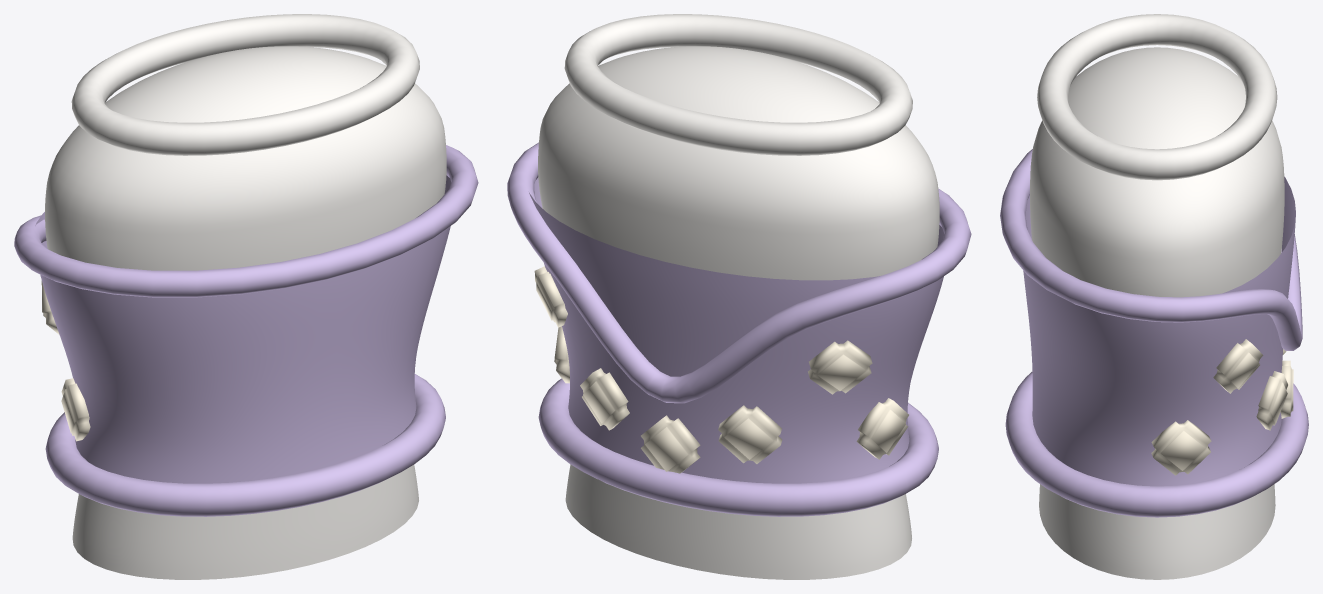
Rendered from sweater_vest.glb.
3 renders of one model, left to right at view 1: azimuth 30°, elevation 25°; view 2: azimuth 150°, elevation 25°; view 3: azimuth 270°, elevation 25°, orthographic. The views are drawn at different scales.
Visible parts, largest first — view 1: Body; view 2: Body; view 3: Body.
Part boxes in pixels (<box>): Body: <box>14,14,478,579</box>; Body: <box>507,14,971,579</box>; Body: <box>1000,14,1308,579</box>.
Size of the model in its own units: 0.4793 by 0.48 by 0.3153.
